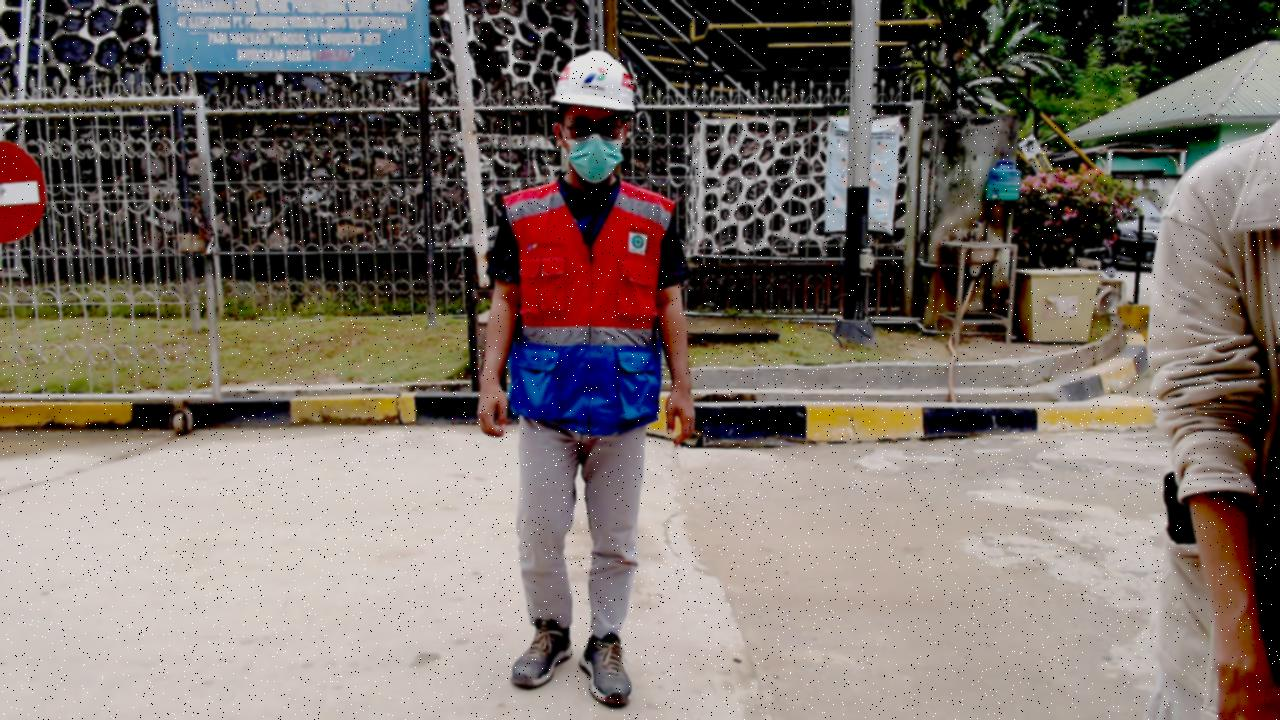helmet: (540, 47, 654, 118)
mask: (557, 137, 634, 184)
safety-shoes: (492, 606, 581, 691), (577, 632, 653, 708)
